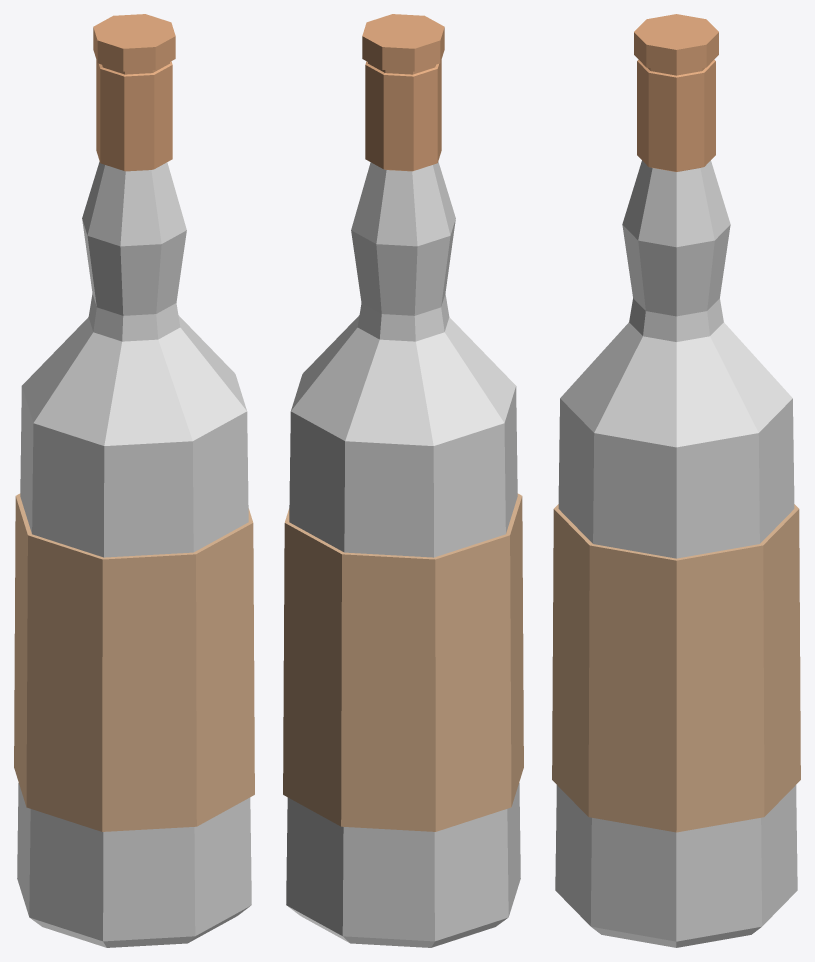
The model's file is Botella_1_2.fbx.
The picture shows the model from 3 angles, left to right: view 1: azimuth 30°, elevation 25°; view 2: azimuth 150°, elevation 25°; view 3: azimuth 270°, elevation 25°; orthographic projection.
Visible parts, largest first — view 1: Botella_1_2; view 2: Botella_1_2; view 3: Botella_1_2.
Part boxes in pixels (<box>): Botella_1_2: <box>14,14,254,947</box>; Botella_1_2: <box>283,14,523,947</box>; Botella_1_2: <box>552,14,800,947</box>.
Bounding box in the file's own units: 56.8 × 219 × 56.8.
